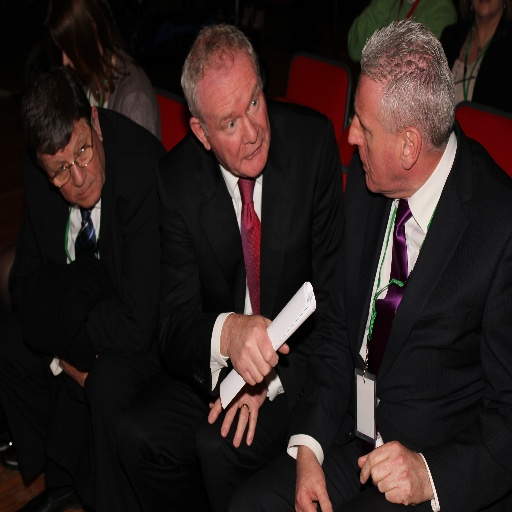hand: (361, 438, 438, 507), (226, 314, 290, 387), (206, 384, 267, 449), (296, 447, 333, 511)
